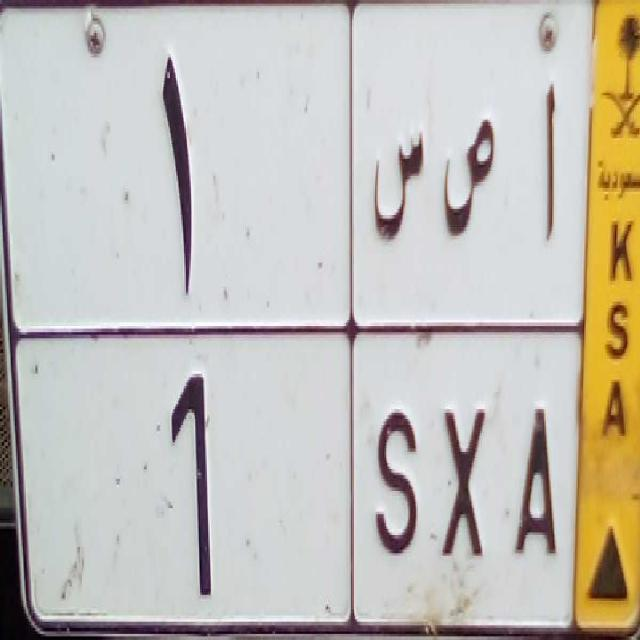license_plate: (9, 321, 579, 640)
